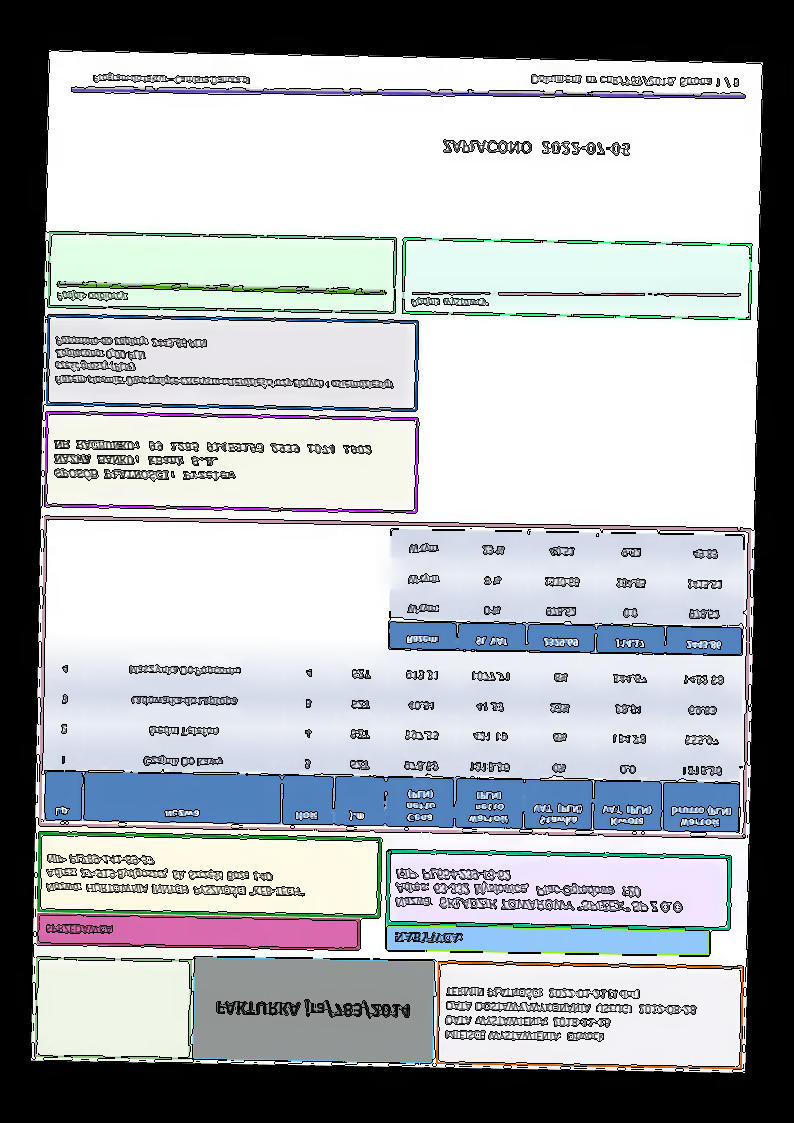Table: (42, 648, 743, 835), (387, 529, 744, 658)
TextBox: (53, 333, 396, 394), (53, 435, 373, 489), (443, 983, 700, 1048), (392, 863, 686, 917), (44, 848, 306, 901), (213, 997, 414, 1022), (440, 137, 630, 160), (529, 72, 741, 91), (90, 71, 252, 90), (408, 293, 490, 312), (41, 920, 115, 939), (55, 288, 129, 306), (391, 929, 464, 947)
